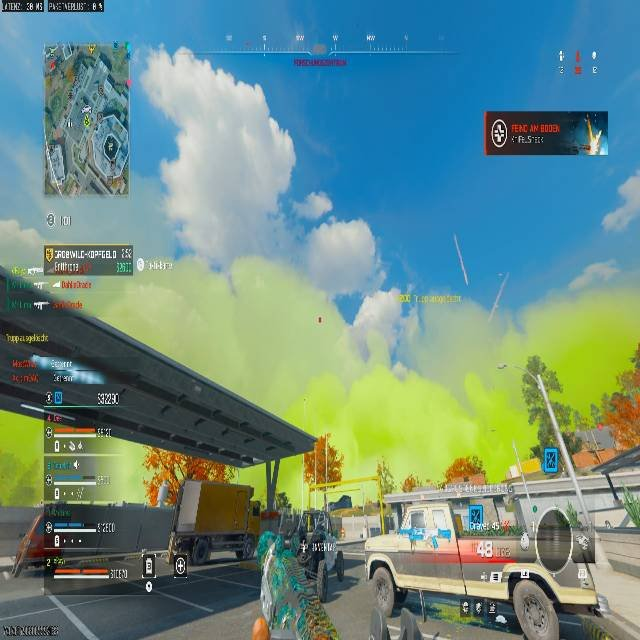head: (521, 507, 588, 566)
player: (303, 519, 335, 586)
